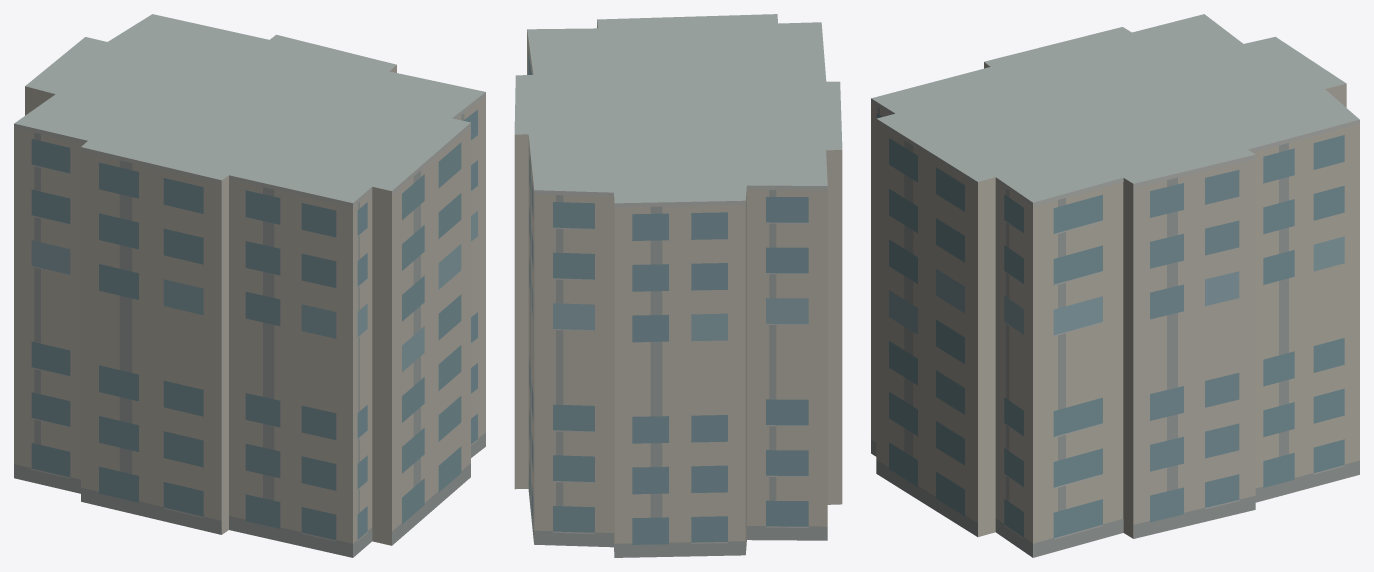
File: survey-upis-32799408.glb
The picture shows the model from 3 angles, left to right: view 1: azimuth 30°, elevation 25°; view 2: azimuth 150°, elevation 25°; view 3: azimuth 270°, elevation 25°; orthographic projection.
Visible parts, largest first — view 1: survey-upis-32799408.tmp; view 2: survey-upis-32799408.tmp; view 3: survey-upis-32799408.tmp.
Part boxes in pixels (x1,y1,x2,y2): survey-upis-32799408.tmp: (14, 14, 485, 557); survey-upis-32799408.tmp: (514, 14, 842, 557); survey-upis-32799408.tmp: (871, 14, 1359, 557).
Size of the model in its own units: 23.37 by 20.5 by 25.58.
